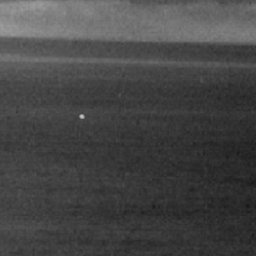Target: (78, 113, 86, 120)
